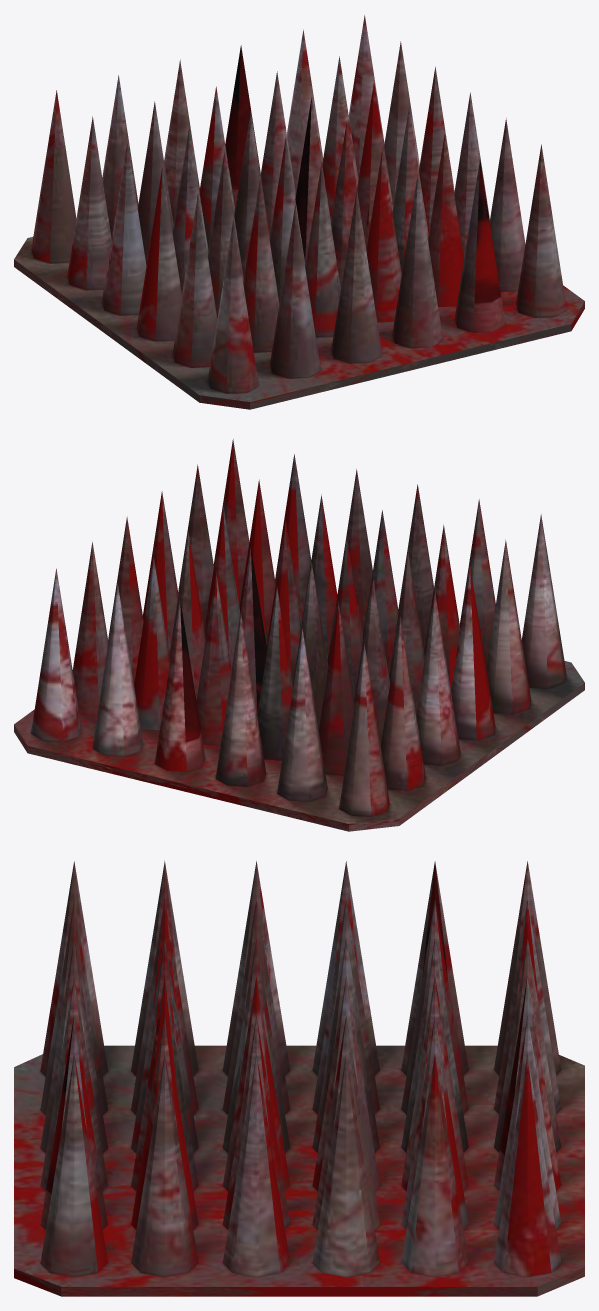
File: trap_spikes_ground_bloody.obj
3 renders of one model, top to bottom at view 1: azimuth 30°, elevation 25°; view 2: azimuth 150°, elevation 25°; view 3: azimuth 270°, elevation 25°, orthographic. The views are drawn at different scales.
Parts seen in each view (by area): view 1: Trap_Spikes; view 2: Trap_Spikes; view 3: Trap_Spikes.
Part boxes in pixels (x1=…): Trap_Spikes: x1=14, y1=15, x2=584, y2=409; Trap_Spikes: x1=14, y1=439, x2=584, y2=831; Trap_Spikes: x1=14, y1=860, x2=584, y2=1296.
Bounding box in the file's own units: 7.61 × 3.25 × 7.61.
1 material, 1 textured.
